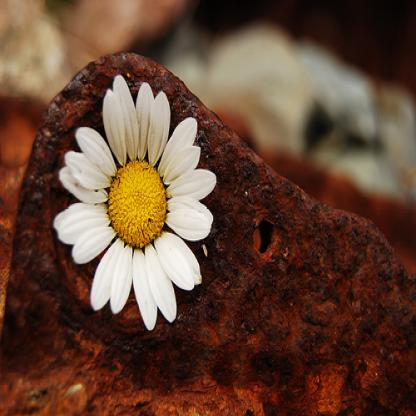ASTER: (43, 71, 255, 336)
